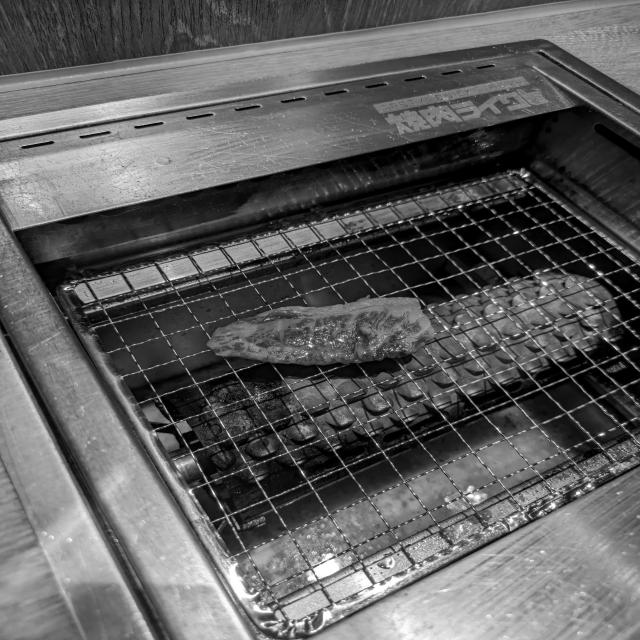NG raw beef,: (203, 284, 443, 370)
